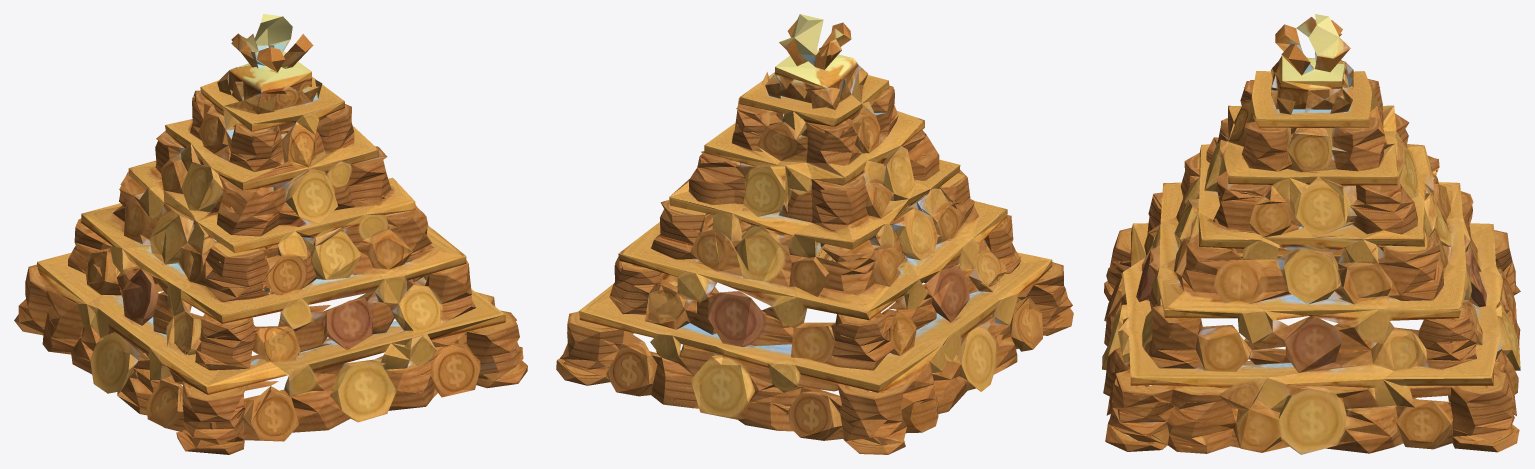
The model's file is ponzi-peaks.glb.
3 views of the same model, side by side, from view 1: azimuth 30°, elevation 25°; view 2: azimuth 150°, elevation 25°; view 3: azimuth 270°, elevation 25° (orthographic). The views are drawn at different scales.
Bounding box in the file's own units: 1.9 × 1.74 × 1.89.
Materials: 1 (1 with a texture image).
